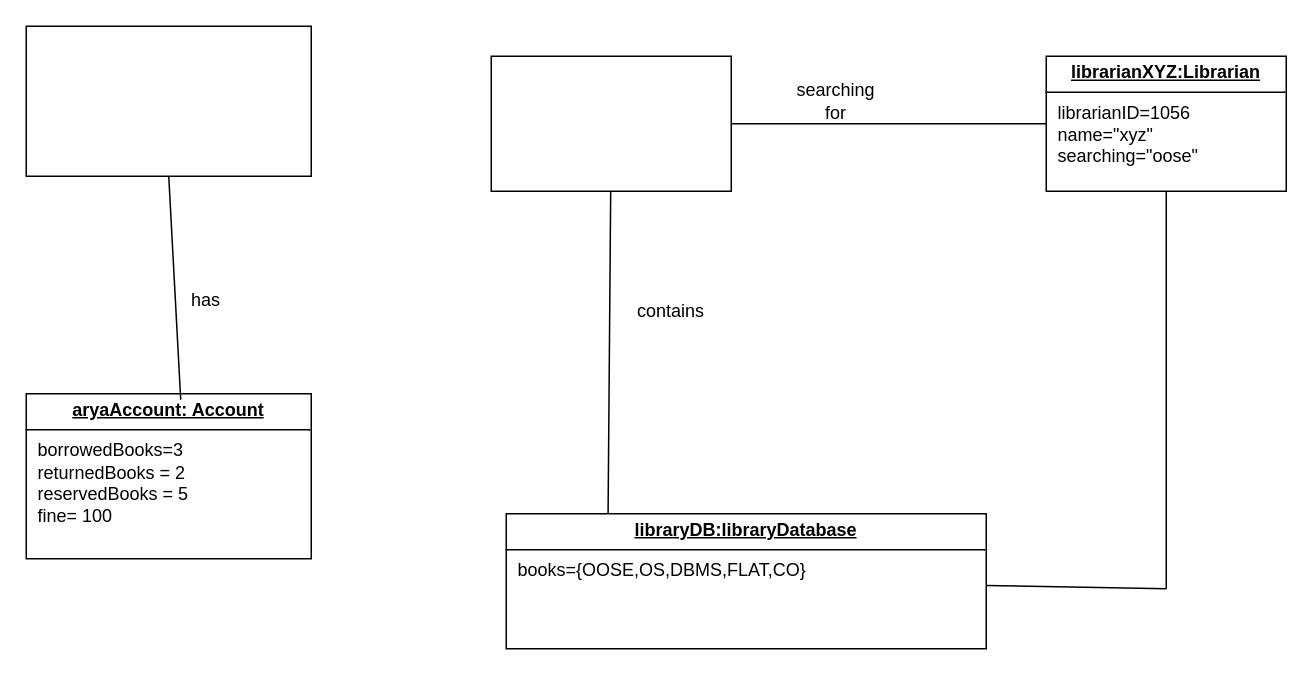
Some shapes in this 1313 by 675 pixel diagram are drawn without their labels. The shapes that lost their labels are listed below. From the top down, each one's centre as x and y in pixels, then its label:
point (168, 100): arya :Student name="Arya" status="logged in"
point (610, 123): oose:Book title = "OOSE" author = "XYZ" publisher = "abc"
